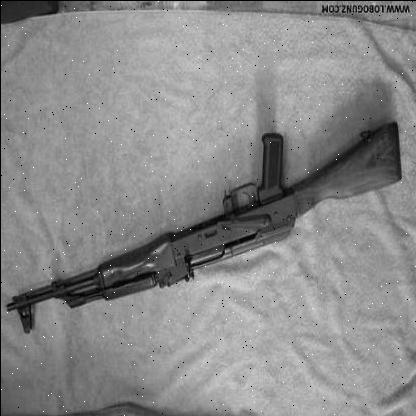rifle: (2, 66, 402, 341)
